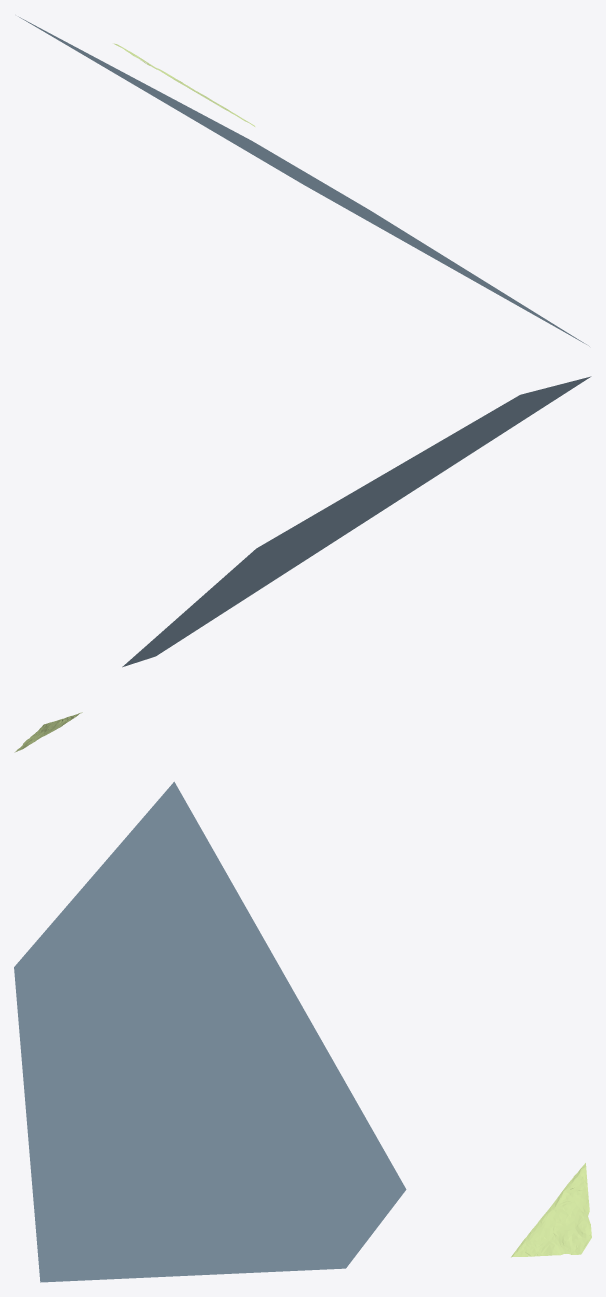
3 views of the same model, one above another, from view 1: azimuth 30°, elevation 25°; view 2: azimuth 150°, elevation 25°; view 3: azimuth 270°, elevation 25° (orthographic). The views are drawn at different scales.
Size of the model in its own units: 914 by 694 by 1171.
